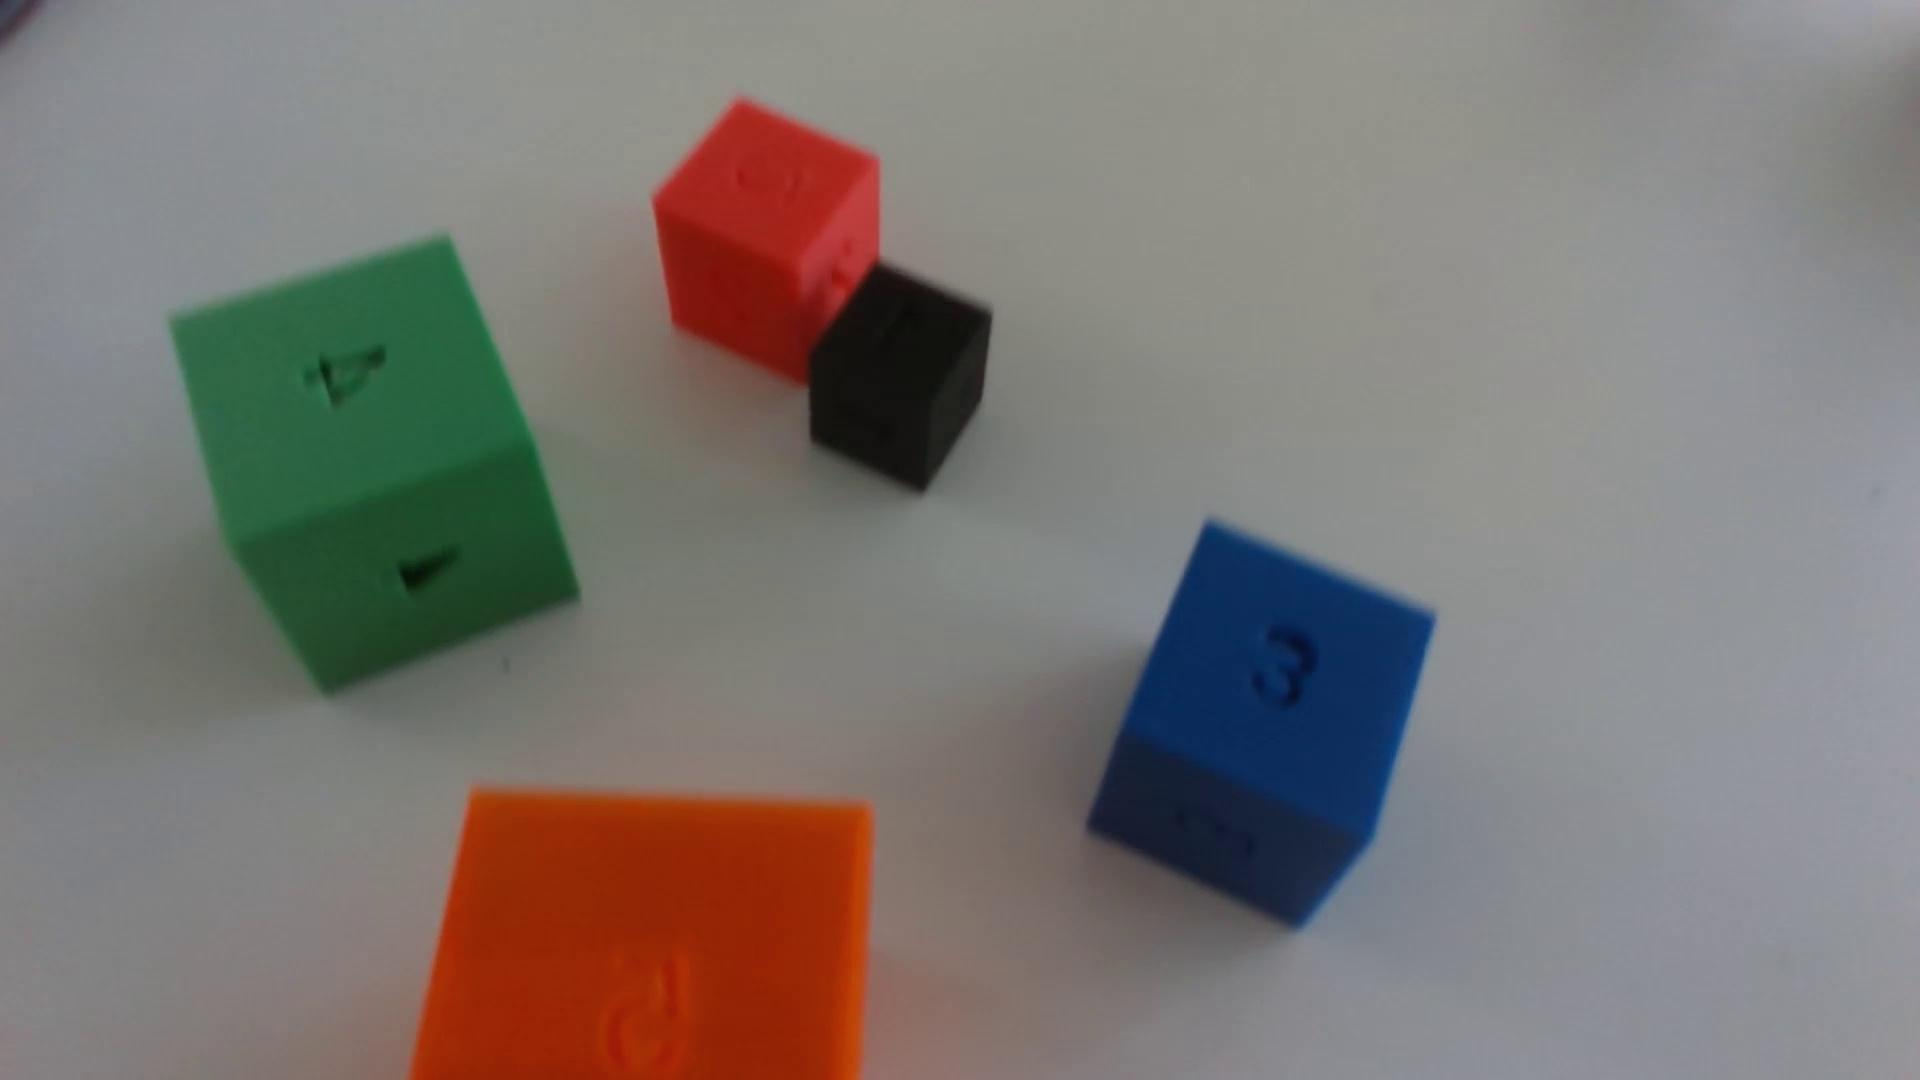black: (808, 264, 993, 495)
blue: (1089, 524, 1435, 927)
green: (173, 239, 579, 692)
orange: (410, 789, 873, 1080)
red: (653, 100, 881, 385)
